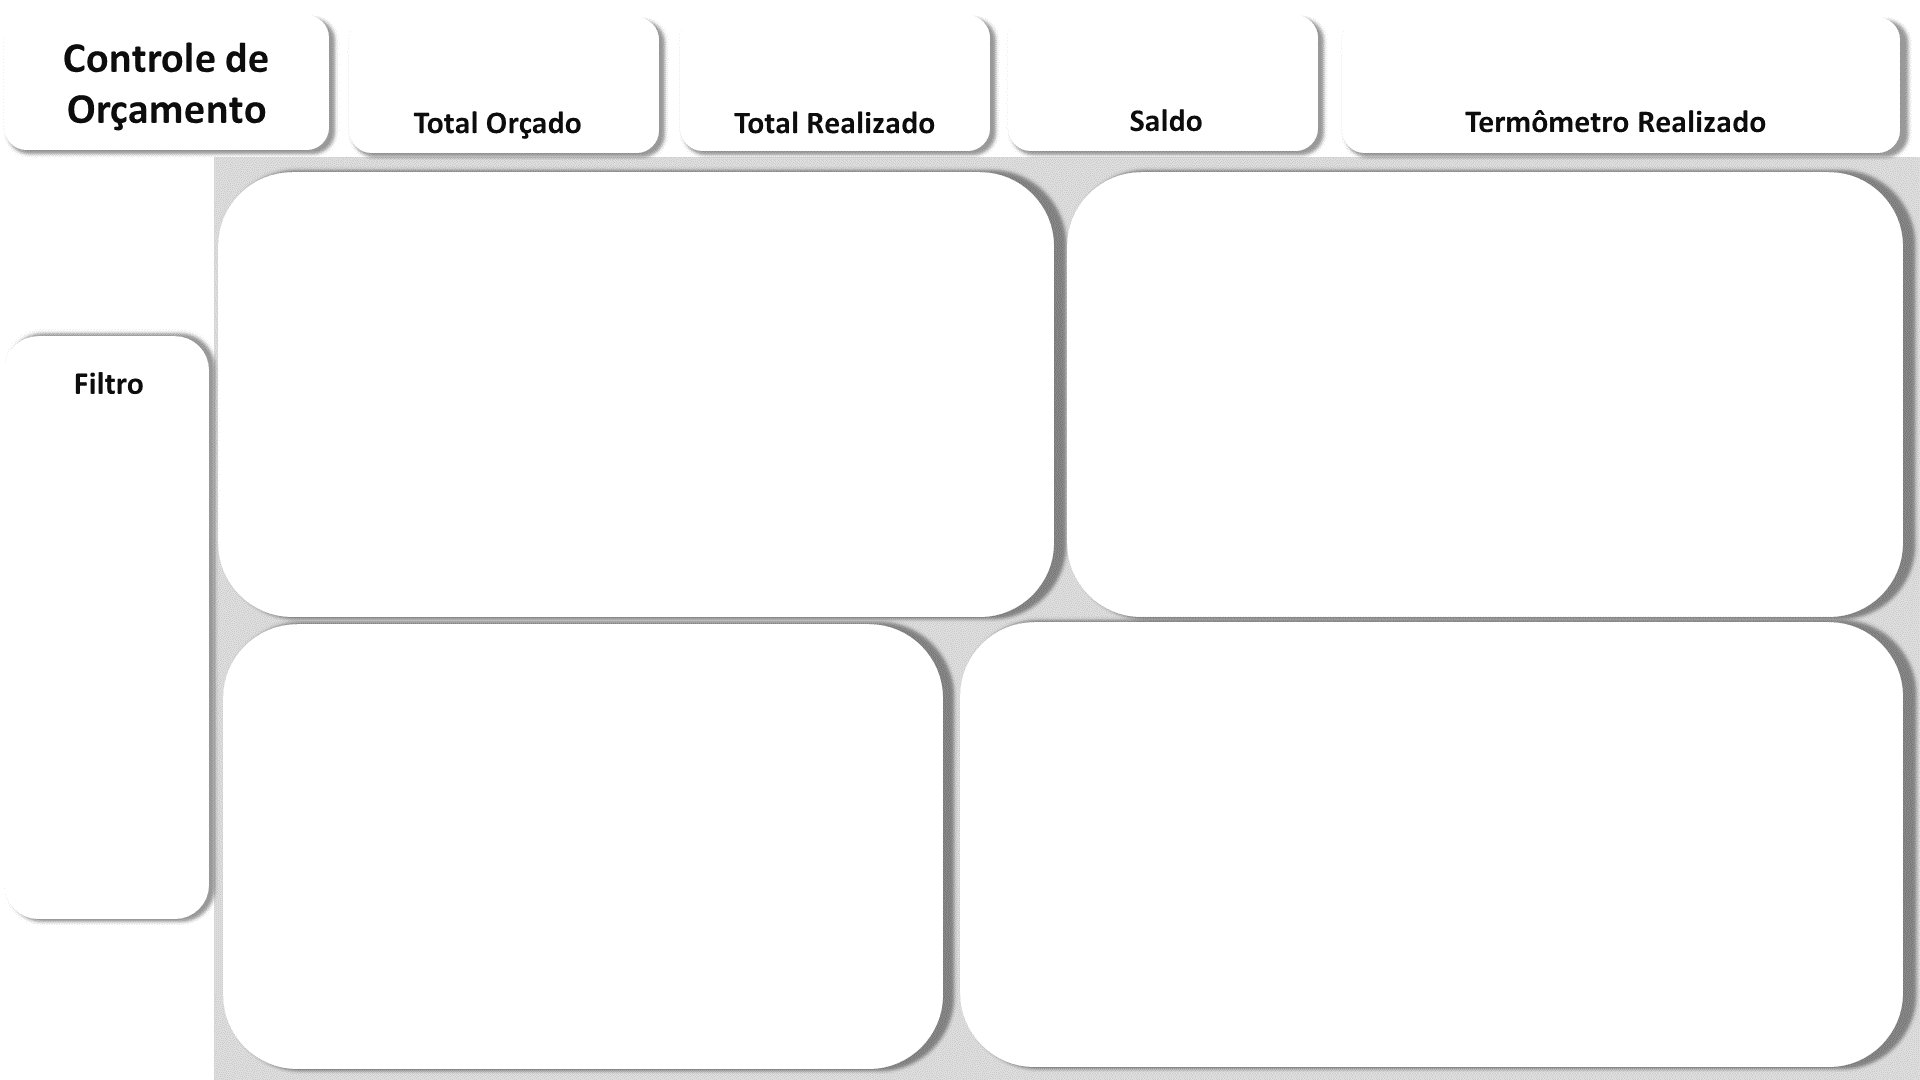

The page's visual inventory and layout, read from the dashboard file:
{"tool":"powerbi","page":{"name":"Página 1","canvas":[1280,720],"ordinal":0},"visuals":[{"type":"card","fields":{"Values":["KPIs.Total Realizado"]},"box":[466.6,15.8,184.3,54.7],"z":0},{"type":"card","fields":{"Values":["KPIs.Total Orçado"]},"box":[233.3,14.4,205.9,60.5],"z":1000},{"type":"card","fields":{"Values":["KPIs.Saldo"]},"box":[682.6,13,187.2,60.5],"z":2000},{"type":"gauge","fields":{"Y":["KPIs.% Realizado"]},"box":[892.8,1.4,381.6,74.9],"z":3000},{"type":"lineClusteredColumnComboChart","title":"Orçado vs Realizado","fields":{"Y2":["KPIs.Total Orçado"],"Y":["KPIs.Total Realizado"],"Category":["dCalendario.DATA.Variation.Hierarquia de datas.Mês"]},"box":[139.7,113.8,568.8,298.1],"z":4000},{"type":"clusteredColumnChart","fields":{"Category":["Departamento.Departamento"],"Y":["KPIs.% de orçamento por dept","KPIs.% de realizado por dept"]},"box":[708.5,115.2,565.9,298.1],"z":4001},{"type":"donutChart","fields":{"Y":["KPIs.Realizado","KPIs.Saldo"]},"box":[139,412.9,501,306.9],"z":4002},{"type":"listSlicer","fields":{"Values":["Departamento.Departamento"]},"box":[0,263.5,139.7,322.6],"z":4003},{"type":"lineClusteredColumnComboChart","fields":{"Category":["dCalendario.MêsAbrev"],"Y":["KPIs.Realizado"],"Y2":["KPIs.Orçado"]},"box":[640.8,411.8,635,306.7],"z":4004}]}

Visuals, with their boxes in screenshot pixels (x1, y1, x2, y2), scaled from the page's 1280x720 canvas onto the 1920x1080 screenshot:
card - KPIs.Total Realizado: (x1=700, y1=24, x2=976, y2=106)
card - KPIs.Total Orçado: (x1=350, y1=22, x2=659, y2=112)
card - KPIs.Saldo: (x1=1024, y1=20, x2=1305, y2=110)
gauge - KPIs.% Realizado: (x1=1339, y1=2, x2=1912, y2=114)
"Orçado vs Realizado" lineClusteredColumnComboChart: (x1=210, y1=171, x2=1063, y2=618)
clusteredColumnChart - Departamento.Departamento x KPIs.% de orçamento por dept: (x1=1063, y1=173, x2=1912, y2=620)
donutChart - KPIs.Realizado x KPIs.Saldo: (x1=208, y1=619, x2=960, y2=1079)
listSlicer - Departamento.Departamento: (x1=0, y1=395, x2=210, y2=879)
lineClusteredColumnComboChart - dCalendario.MêsAbrev x KPIs.Realizado: (x1=961, y1=618, x2=1914, y2=1078)
